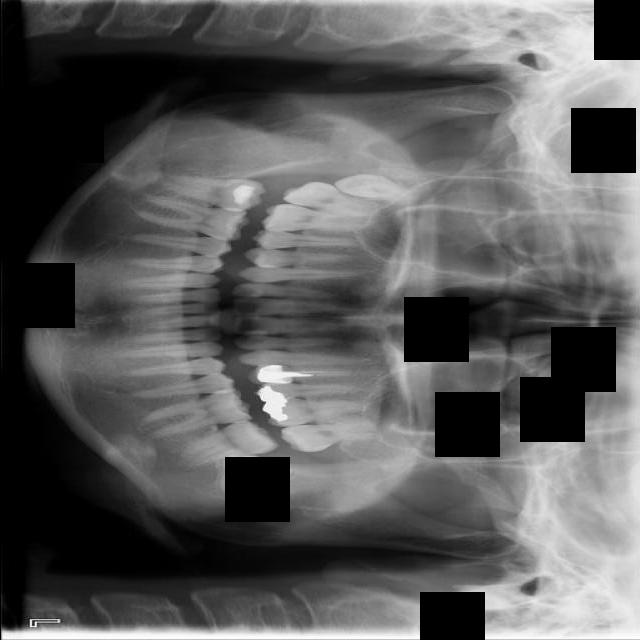3M ESPE Implant: (333, 170, 416, 202)
52: (213, 168, 271, 223), (261, 396, 310, 427), (246, 365, 295, 387), (253, 380, 295, 402)
73: (245, 364, 375, 387), (11, 624, 17, 632)
BioHorizons Implant: (279, 415, 384, 456)
Biomet 3i Implant: (217, 451, 292, 498)
Blue Sky Bio Implant: (171, 414, 280, 471)
Caries: (280, 174, 395, 225)
Implant: (157, 171, 270, 215)
